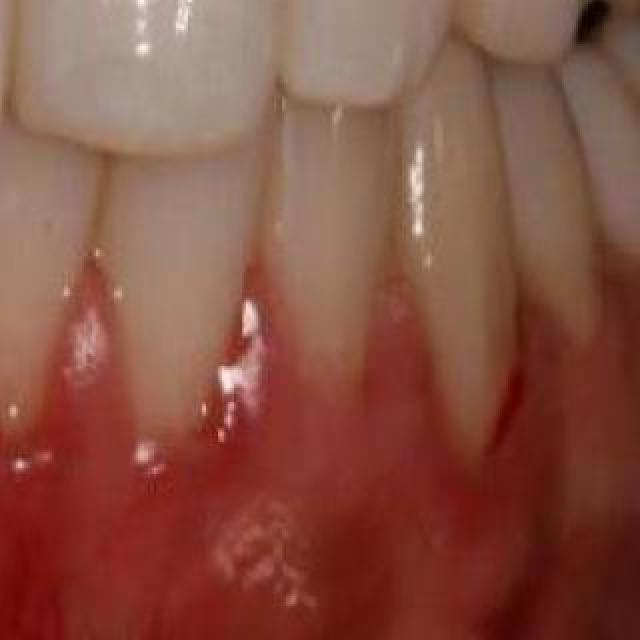plaque: (404, 158, 534, 442), (239, 193, 413, 389), (0, 168, 108, 384)
